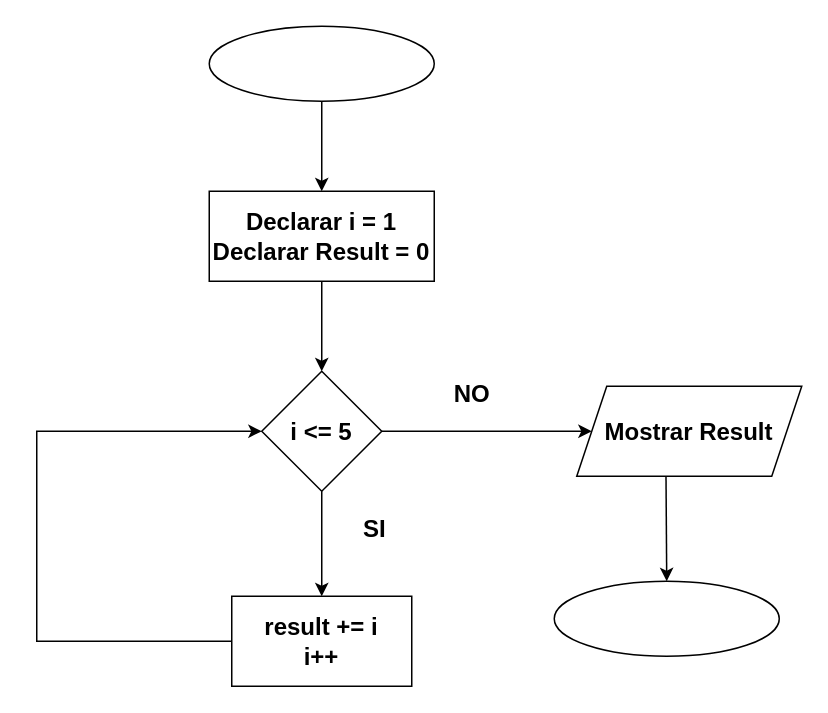
The diagram is 828 pixels wide and 713 high, and some of its shapes have lost their labels. The centre of each missing label's shape, as x and y in pixels:
"FIN" belongs at pixel 666 618.
"INICIO" belongs at pixel 321 63.
